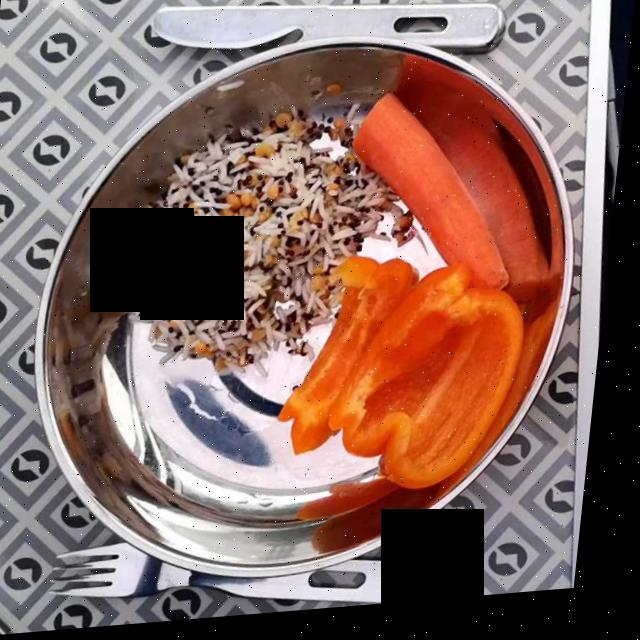bell-pepper-red-raw: (297, 274, 531, 495)
carrot-raw: (362, 98, 552, 292)
rice-wild: (132, 122, 401, 376)
